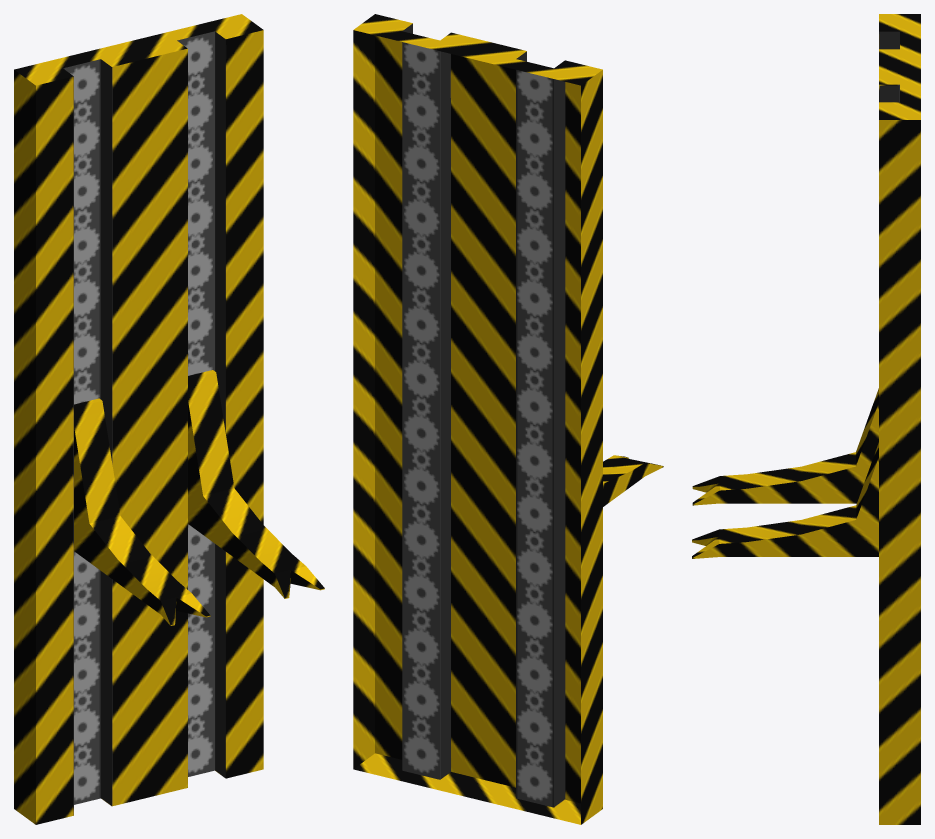
Rendered from Wallmount.fbx.
3 views of the same model, side by side, from view 1: azimuth 30°, elevation 25°; view 2: azimuth 150°, elevation 25°; view 3: azimuth 270°, elevation 25° (orthographic). The views are drawn at different scales.
Visible parts, largest first — view 1: Wallmount, Left_Arm, Right_Arm; view 2: Wallmount, Right_Arm; view 3: Wallmount, Left_Arm, Right_Arm.
Part boxes in pixels (<box>): Wallmount: <box>14,14,263,824</box>; Left_Arm: <box>188,370,324,598</box>; Right_Arm: <box>74,398,210,625</box>; Wallmount: <box>353,14,602,824</box>; Right_Arm: <box>603,455,663,506</box>; Wallmount: <box>879,14,920,824</box>; Left_Arm: <box>692,442,878,558</box>; Right_Arm: <box>692,388,878,505</box>.
Size of the model in its own units: 3 by 9.3 by 2.74.
